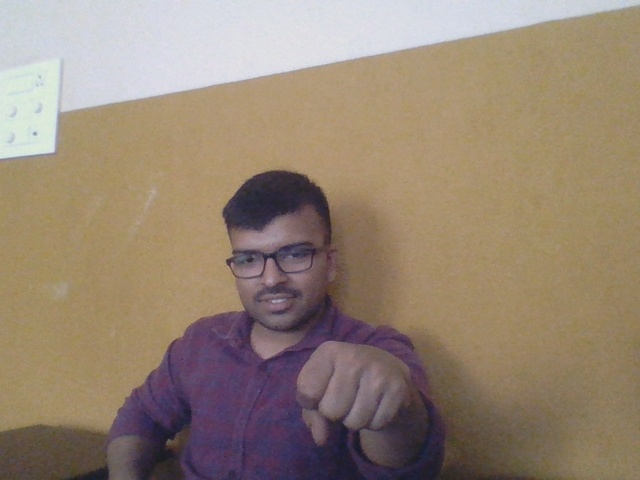Yes: (291, 333, 419, 454)
